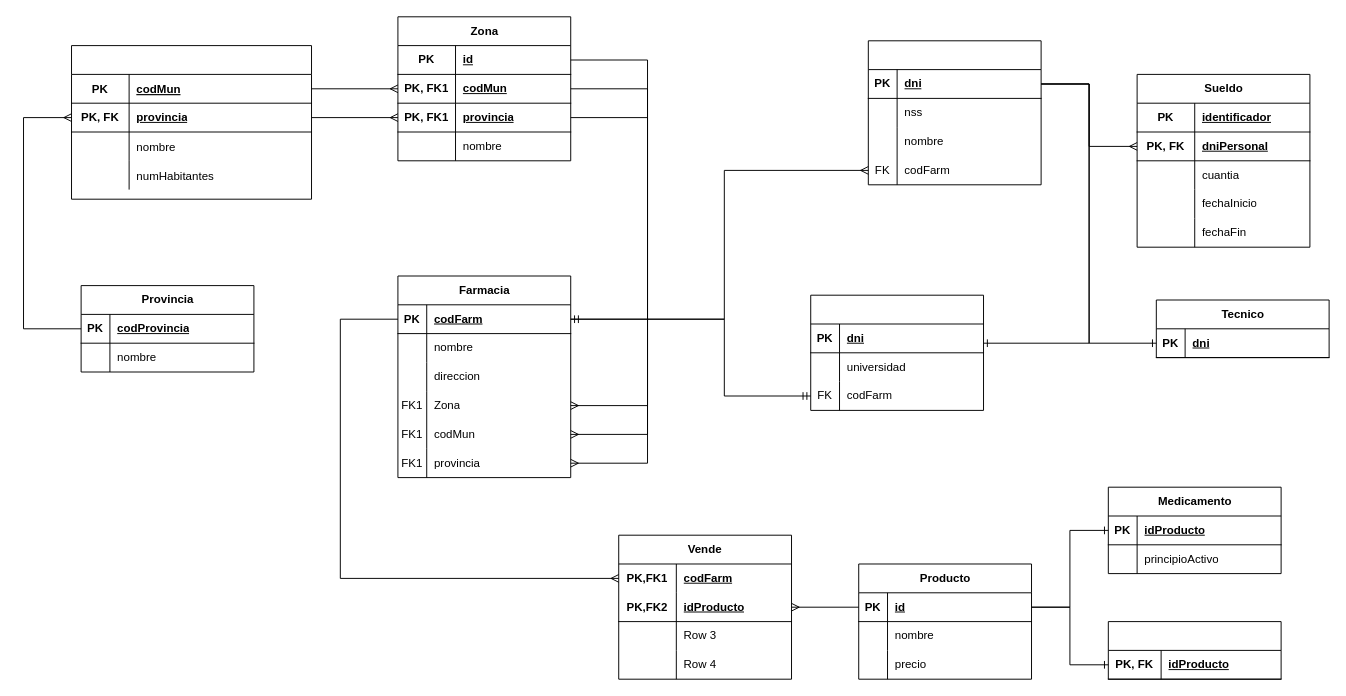
The diagram is 1346 pixels wide and 696 high, and some of its shapes have lost their labels. Each missing label, with the box of its shape:
Farmaceutico: (810, 294, 984, 410)
Municipio: (71, 45, 312, 199)
Parafarmacia: (1107, 621, 1281, 679)
Personal: (867, 40, 1041, 185)
